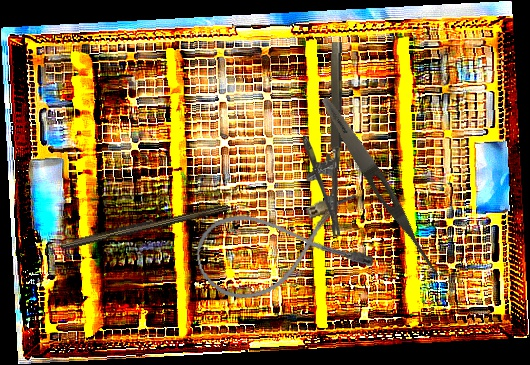Cannula: (190, 190, 376, 307)
Dressing Forceps: (316, 93, 447, 281)
Needle Holder: (301, 41, 344, 237)
Scalpel Handle: (59, 199, 229, 253)
